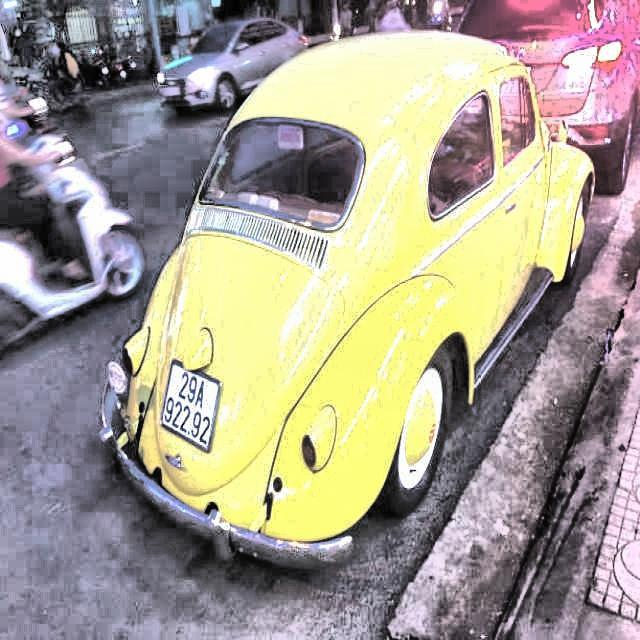carro: (116, 41, 586, 538)
